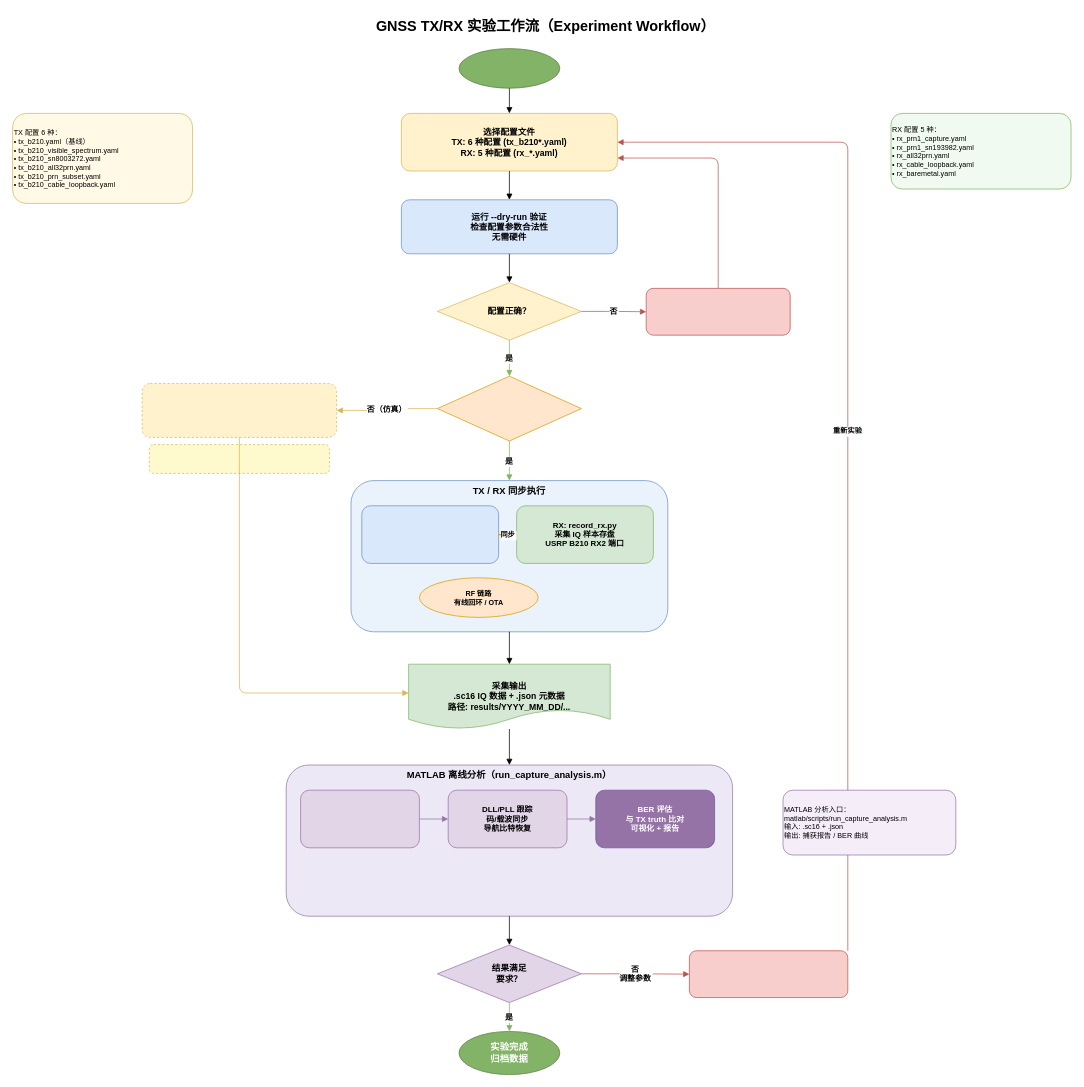
Some shapes in this 1084 by 1087 pixel diagram are drawn without their labels. Each missing label, with the centre of its shape:
gen_synthetic_capture.py 软件仿真（无硬件） --snr-db / --duration: (239,410)
PRN 捕获 码相位搜索 多普勒频偏估计: (359,818)
TX: run_tx.py 发射 GPS L1 C/A 信号 USRP B210 TX/RX 端口: (430,534)
USRP 硬件 可用？: (509,408)
修改 YAML 配置 调整参数: (717,311)
复用 gnss_tx 模块 生成 clean signal + AWGN: (239,458)
开始实验: (509,68)
调整参数 SNR / 增益 / 频偏 PRN 选择 / 采样率: (768,974)
